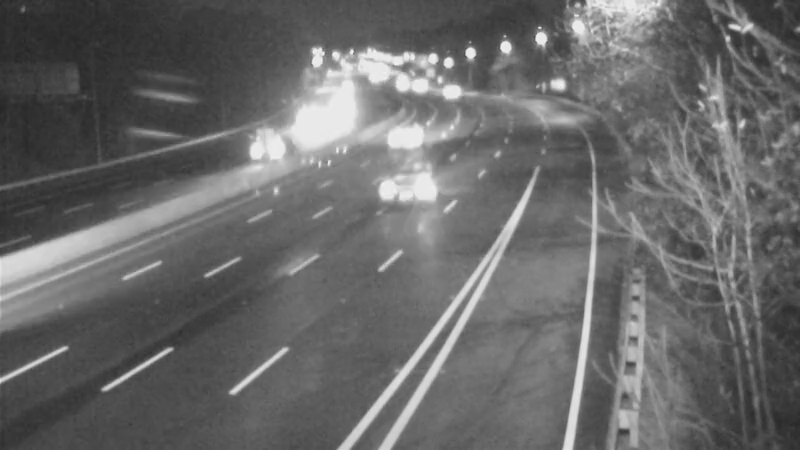vehicle: (370, 146, 450, 226), (429, 63, 479, 113), (376, 111, 426, 161), (244, 124, 294, 174), (287, 104, 337, 154)
